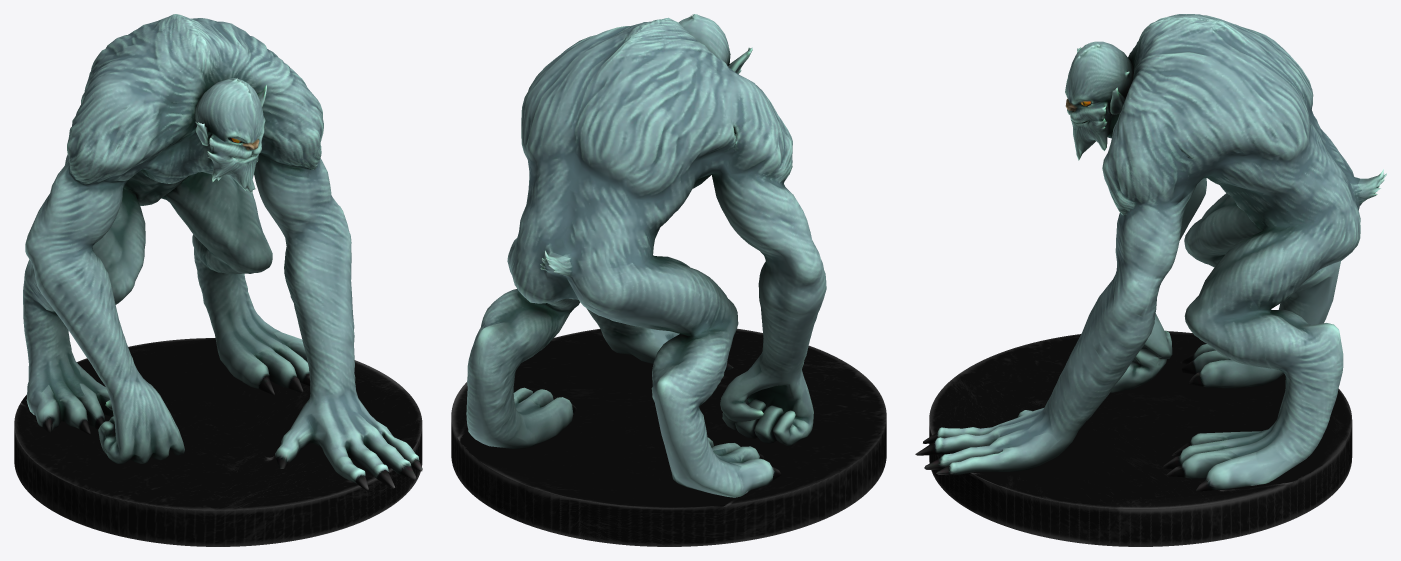
The model's file is MZ4250 - Quaggoth.glb.
The picture shows the model from 3 angles, left to right: view 1: azimuth 30°, elevation 25°; view 2: azimuth 150°, elevation 25°; view 3: azimuth 270°, elevation 25°; orthographic projection. The views are drawn at different scales.
Visible parts, largest first — view 1: body_low.001, base_low.001; view 2: body_low.001, base_low.001; view 3: body_low.001, base_low.001.
Part boxes in pixels (x1,y1,x2,y2): body_low.001: (23, 14, 422, 491); base_low.001: (14, 338, 422, 546); body_low.001: (466, 14, 826, 497); base_low.001: (451, 328, 886, 546); body_low.001: (915, 14, 1386, 491); base_low.001: (929, 331, 1352, 546).
Bounding box in the file's own units: 6.09 × 6.95 × 6.8.
Materials: 1 (1 with a texture image).
